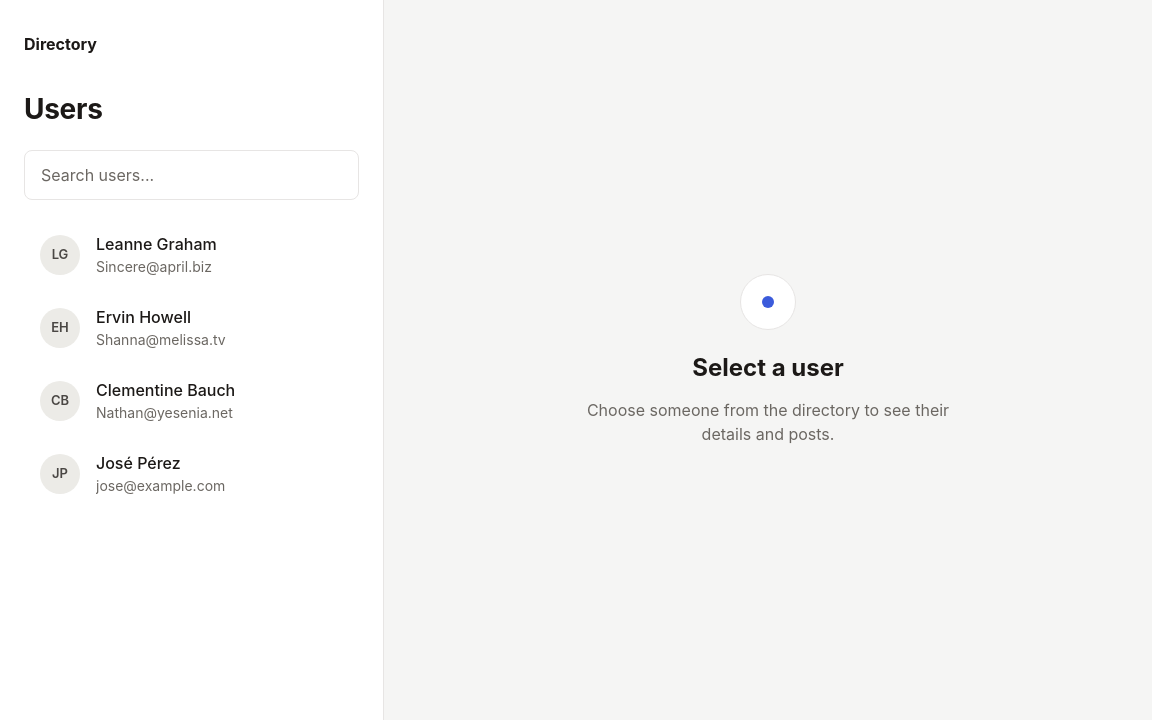
Create post › disables the form while publishing and shows the new post first with feedback
This screenshot has width=1152, height=720.
Click the button "LG Leanne Graham Sincere@april.biz": [192, 254] box [24,220,359,289]
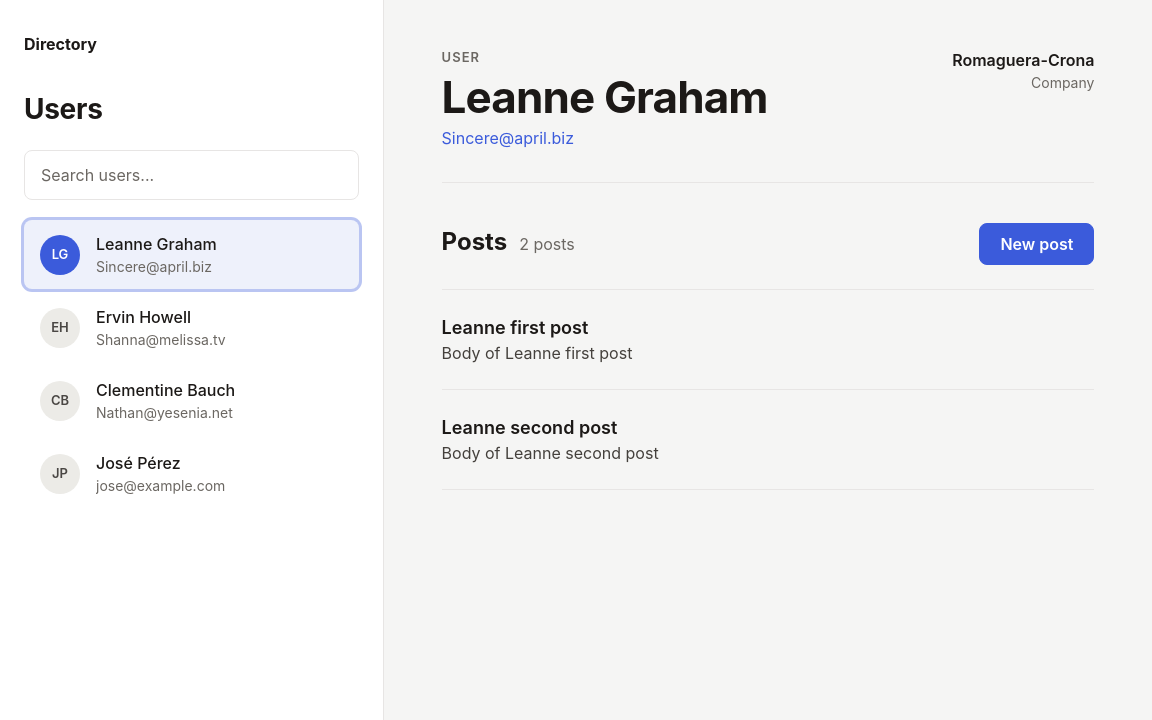
Expected: the list named "Posts" is shown, [442,289,1094,490]
Click the button "New post": [1037, 244] box [979,223,1094,265]
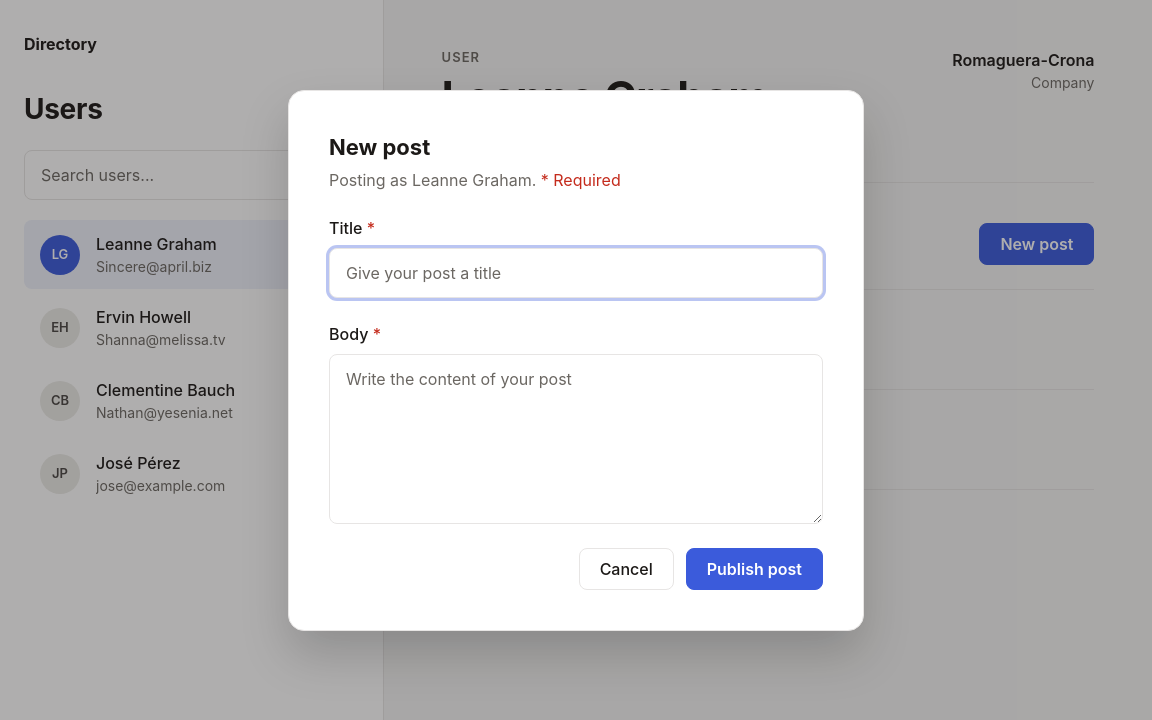
In the field labelled "Title *": [576, 272] box [329,248,823,298], type "  Spring notes  "
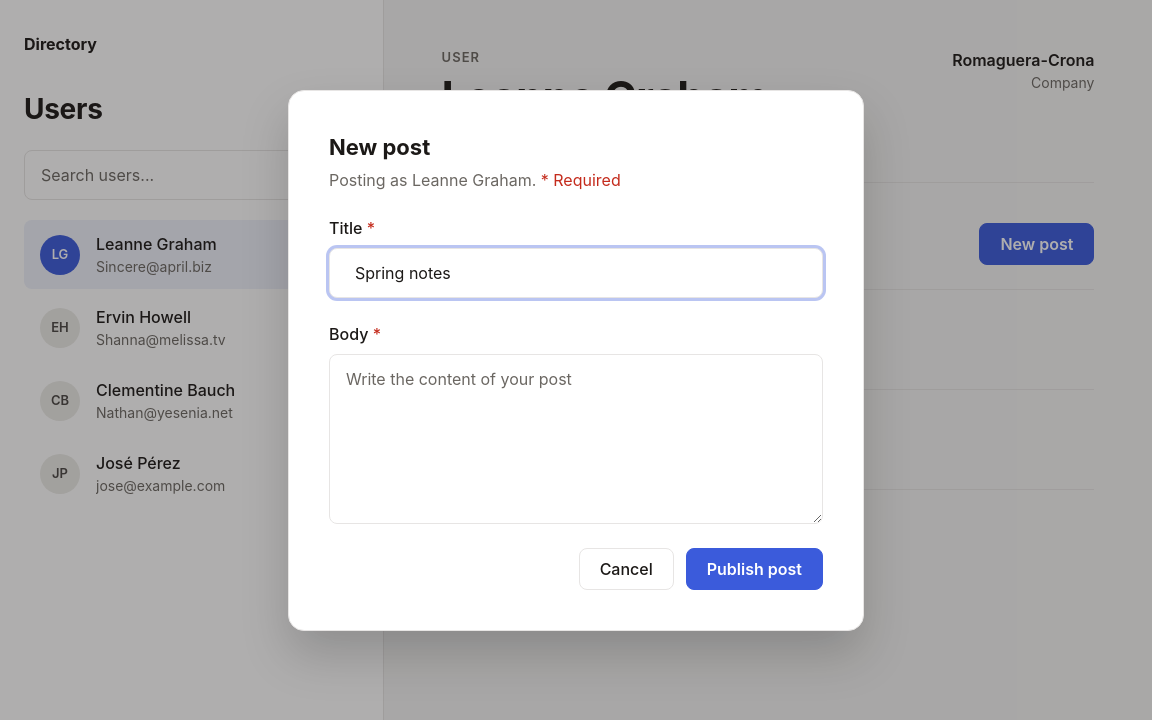
In the text box labelled "Body *": [576, 438] box [329,354,823,524], type "What changed this week"
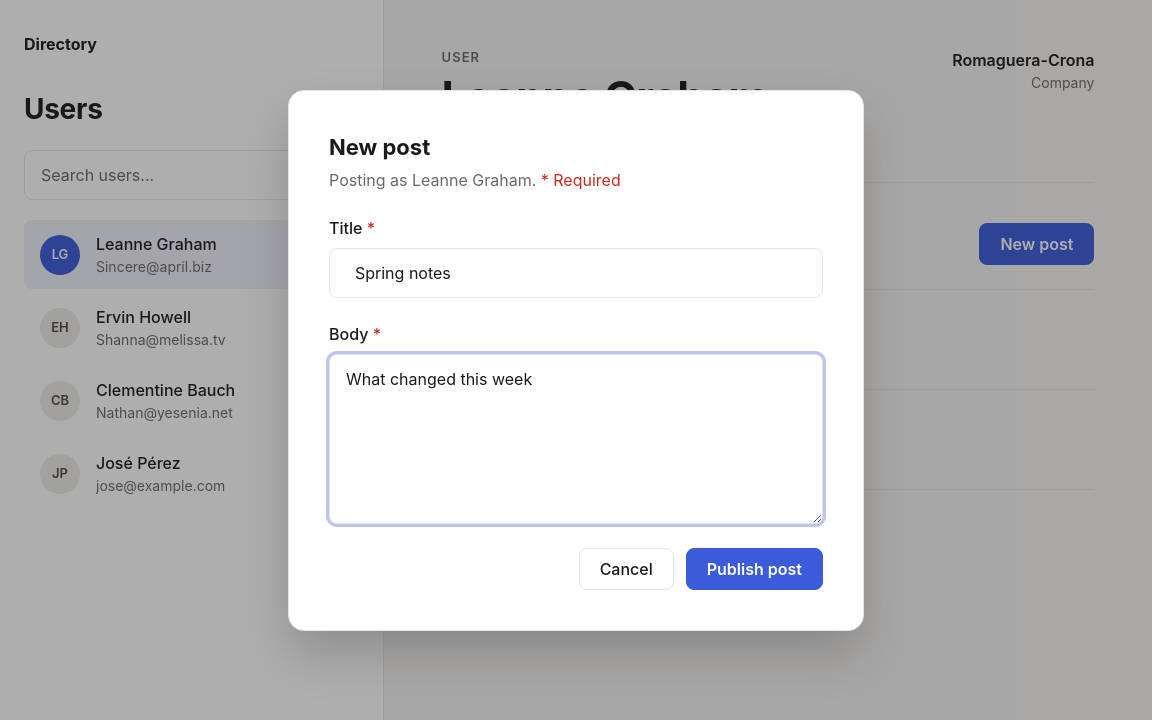
Click the button "Publish post": [754, 568] box [686,548,823,590]
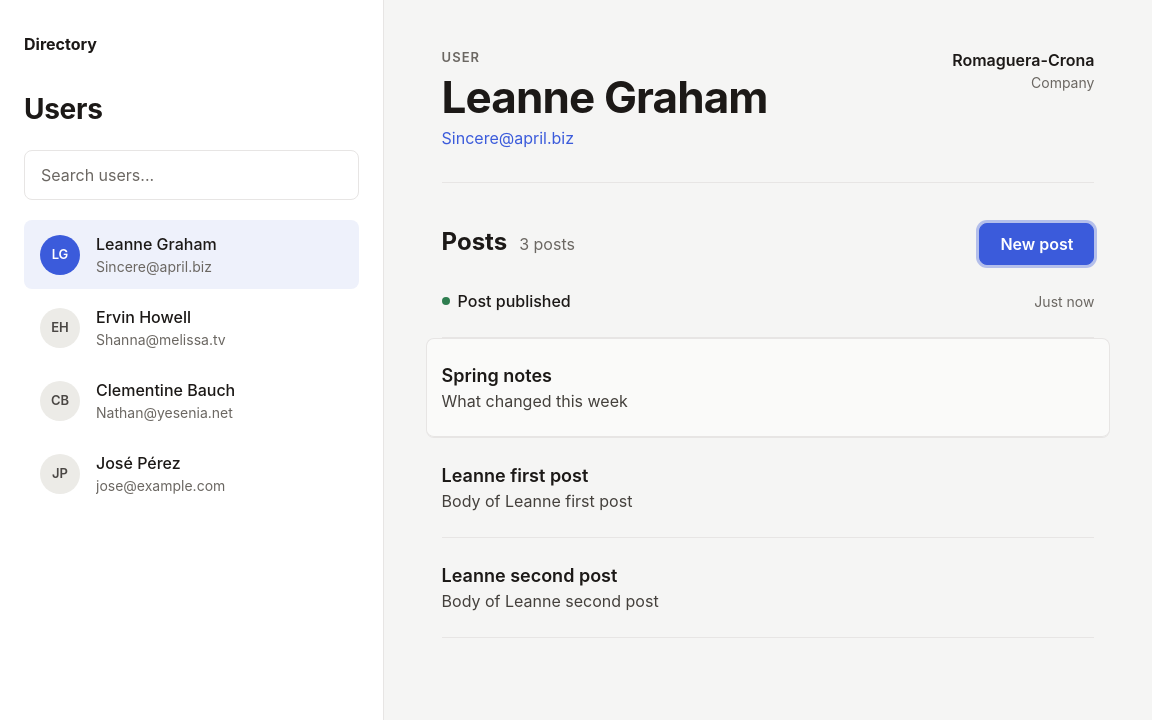
Expected: the text "Post published" is shown, [458,291,571,311]
Expected: the dialog is gone
Expected: the heading "Spring notes" is shown, [442,365,552,386]
